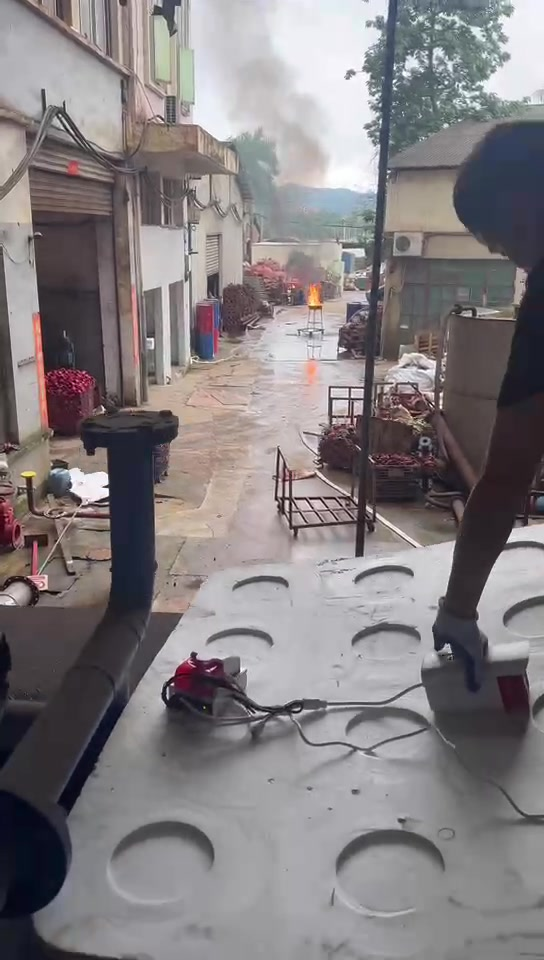fire: (307, 282, 322, 306)
